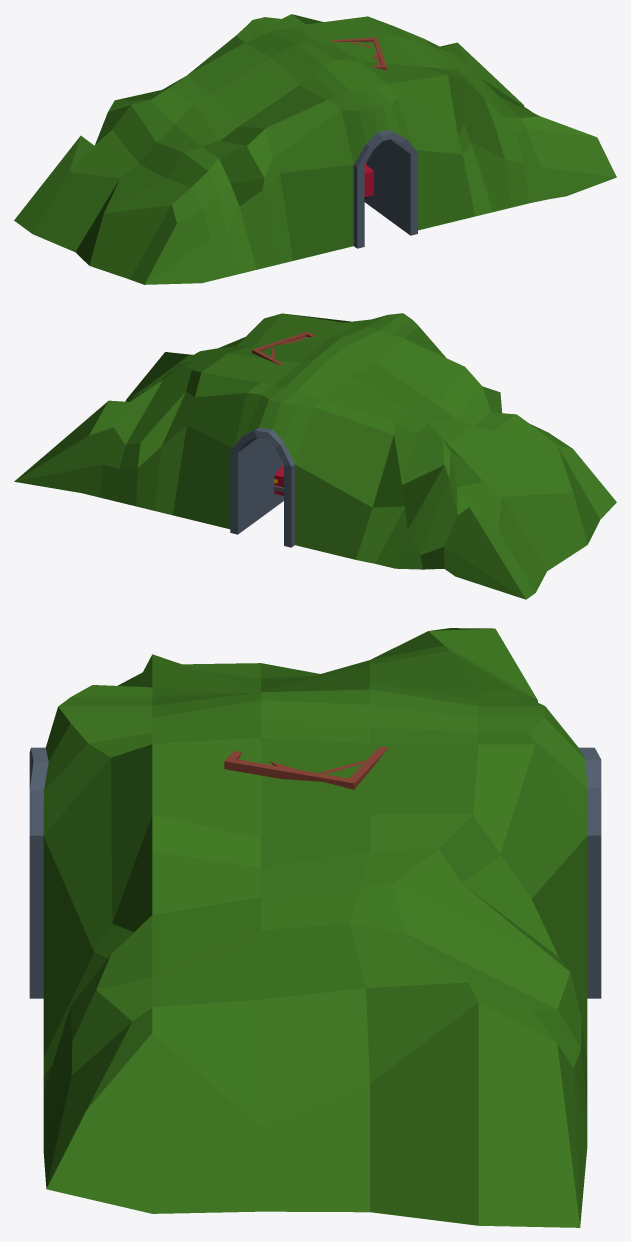
Rendered from ObstaclesModel.glb.
3 renders of one model, top to bottom at view 1: azimuth 30°, elevation 25°; view 2: azimuth 150°, elevation 25°; view 3: azimuth 270°, elevation 25°, orthographic. The views are drawn at different scales.
Visible parts, largest first — view 1: ObstacleTunnelModel, ObstacleBoxStackModel; view 2: ObstacleTunnelModel, ObstacleBoxStackModel; view 3: ObstacleTunnelModel, ObstacleBoxStackModel.
Part boxes in pixels (x1=…): ObstacleTunnelModel: x1=14, y1=14, x2=616, y2=284; ObstacleBoxStackModel: x1=331, y1=37, x2=386, y2=70; ObstacleTunnelModel: x1=14, y1=313, x2=616, y2=599; ObstacleBoxStackModel: x1=252, y1=331, x2=314, y2=365; ObstacleTunnelModel: x1=29, y1=628, x2=601, y2=1227; ObstacleBoxStackModel: x1=224, y1=747, x2=388, y2=789.
Size of the model in its own units: 8.21 by 2.44 by 4.08.
Materials: 1 (1 with a texture image).
